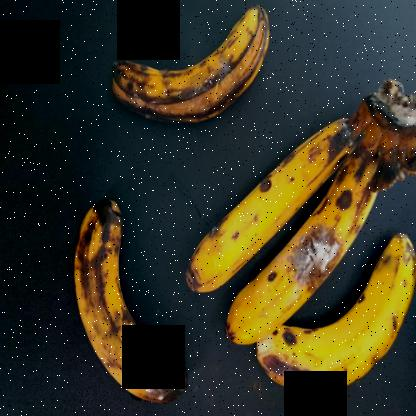overripe: (218, 163, 389, 350), (181, 114, 363, 289), (258, 232, 416, 405)
rotten: (79, 1, 277, 139), (68, 175, 177, 412), (286, 205, 357, 300)
